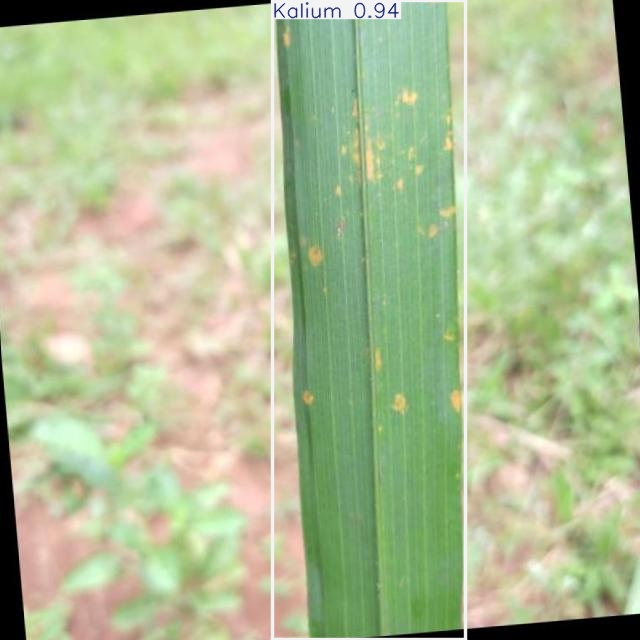Kalium: (273, 0, 465, 640)
